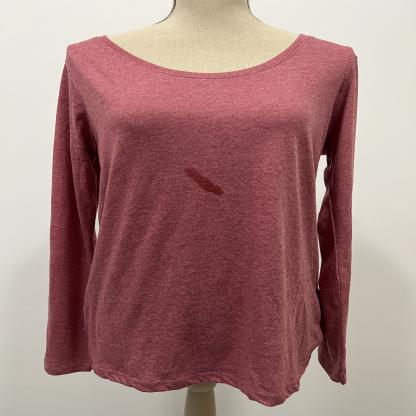stain: (180, 164, 229, 199)
